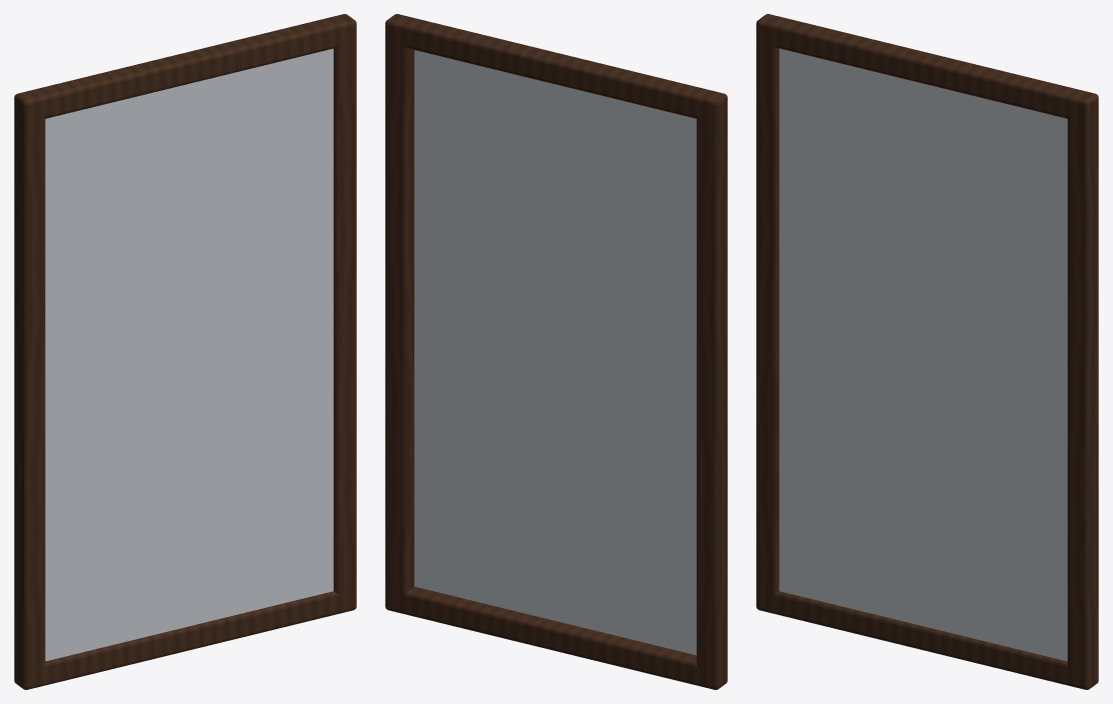
Rendered from PRP_Mirror.fbx.
3 renders of one model, left to right at view 1: azimuth 30°, elevation 25°; view 2: azimuth 150°, elevation 25°; view 3: azimuth 330°, elevation 25°, orthographic.
Visible parts, largest first — view 1: Mirror_Plane, Mirror_Frame; view 2: Mirror_Plane, Mirror_Frame; view 3: Mirror_Plane, Mirror_Frame.
Part boxes in pixels (x1=…): Mirror_Plane: x1=45, y1=48, x2=333, y2=661; Mirror_Frame: x1=14, y1=14, x2=356, y2=689; Mirror_Plane: x1=414, y1=50, x2=696, y2=655; Mirror_Frame: x1=385, y1=14, x2=727, y2=689; Mirror_Plane: x1=779, y1=48, x2=1067, y2=661; Mirror_Frame: x1=756, y1=14, x2=1098, y2=689.
Size of the model in its own units: 74 by 125 by 4.5.
